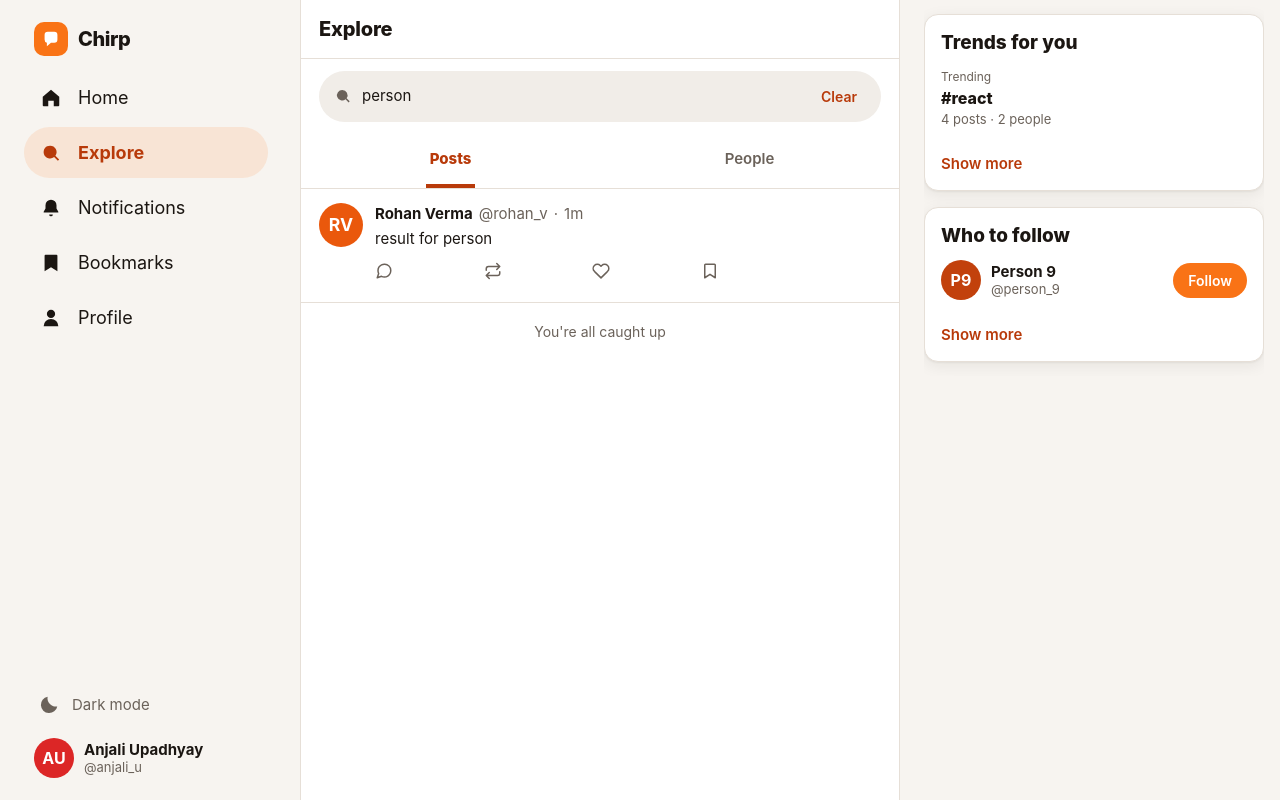
Test: Explore › People tab searches users and lets you follow from the results
Check: the text "result for person" is shown, box [375,228,492,248]
Click the tab "People": (750, 161) [600,134,899,188]
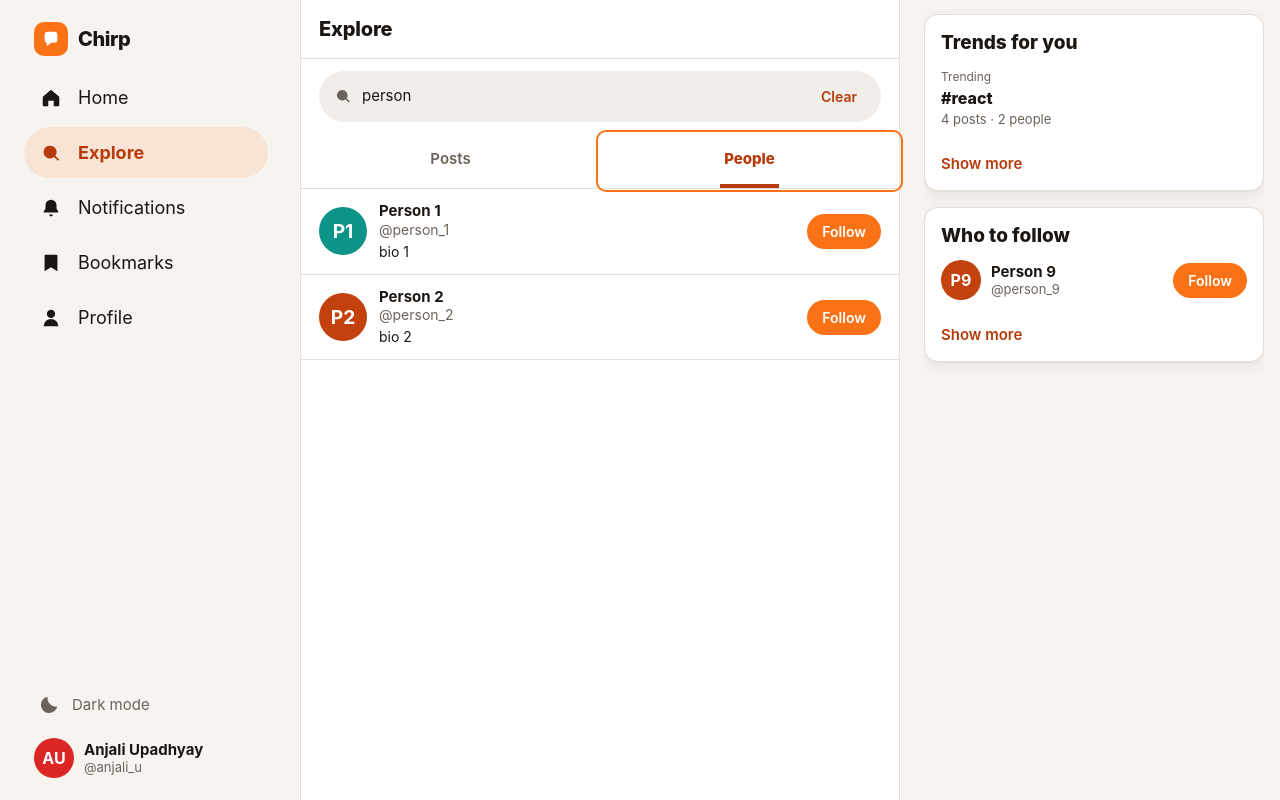
Check: the text "Person 1" is shown, box [379,201,441,220]
Click the button with aria-label "Follow @person_1": (844, 231) [807,214,881,249]
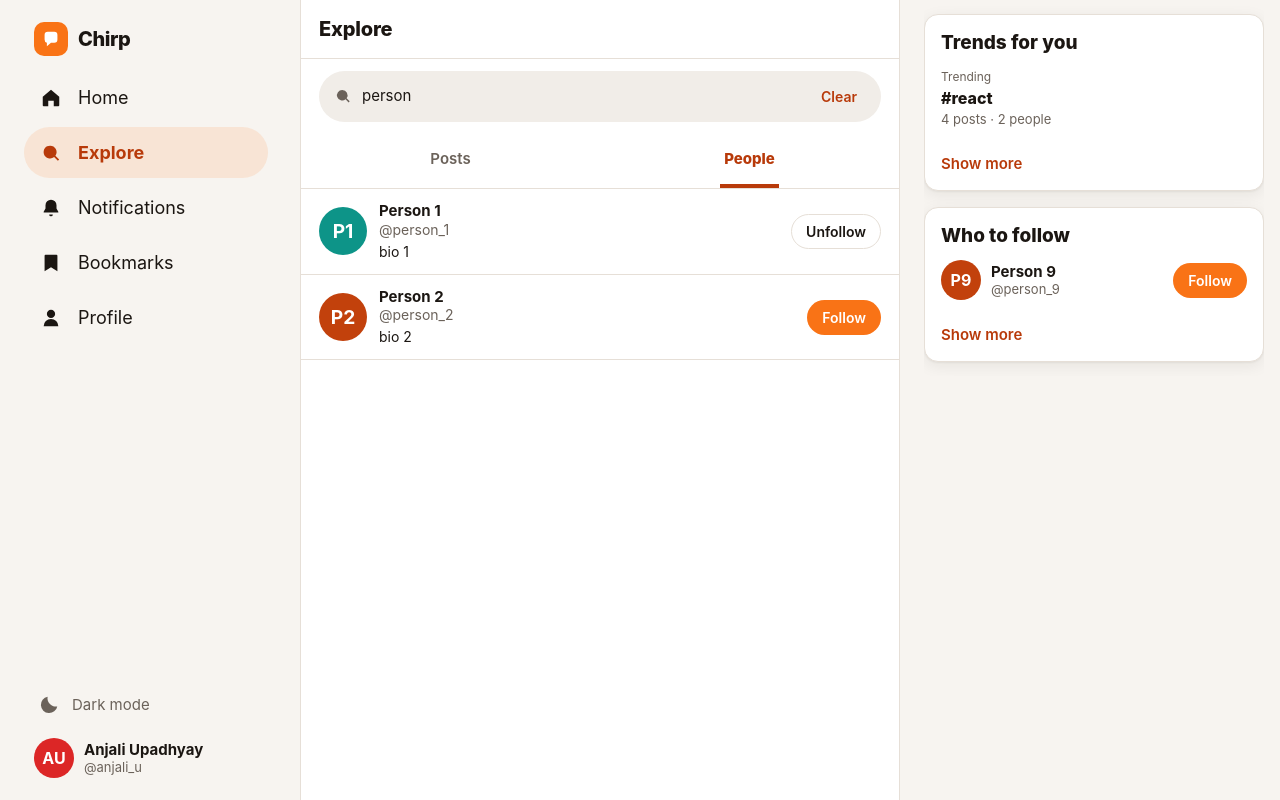
Check: the button with aria-label "Unfollow @person_1" is shown, box [791,214,881,249]
